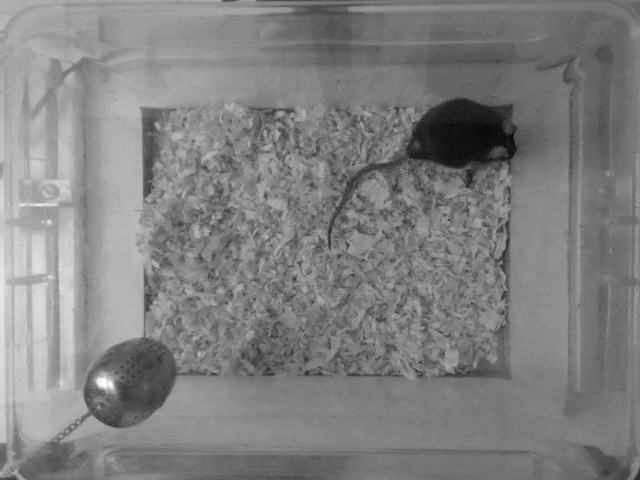mice: (327, 93, 518, 250)
